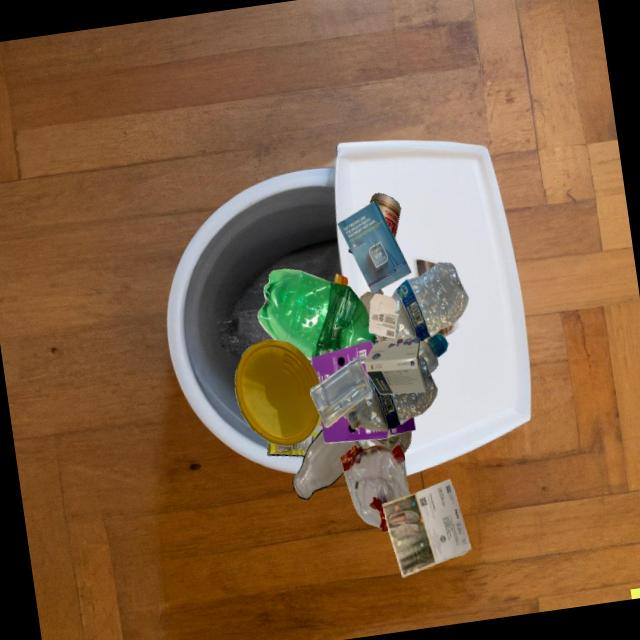cardboard: (355, 353, 414, 417), (365, 337, 426, 394), (311, 341, 373, 383), (325, 415, 388, 443), (320, 383, 355, 428), (359, 289, 383, 317), (343, 405, 356, 422)
glass: (293, 429, 355, 499), (353, 429, 412, 454)
paper: (382, 479, 472, 578), (337, 201, 411, 293), (369, 294, 398, 338)
plastic: (258, 269, 377, 360), (235, 340, 320, 446), (375, 262, 469, 343), (347, 356, 438, 431), (340, 445, 410, 532), (310, 358, 372, 428), (418, 333, 448, 373), (334, 273, 348, 286)
trash: (267, 416, 323, 457), (369, 193, 401, 239)
